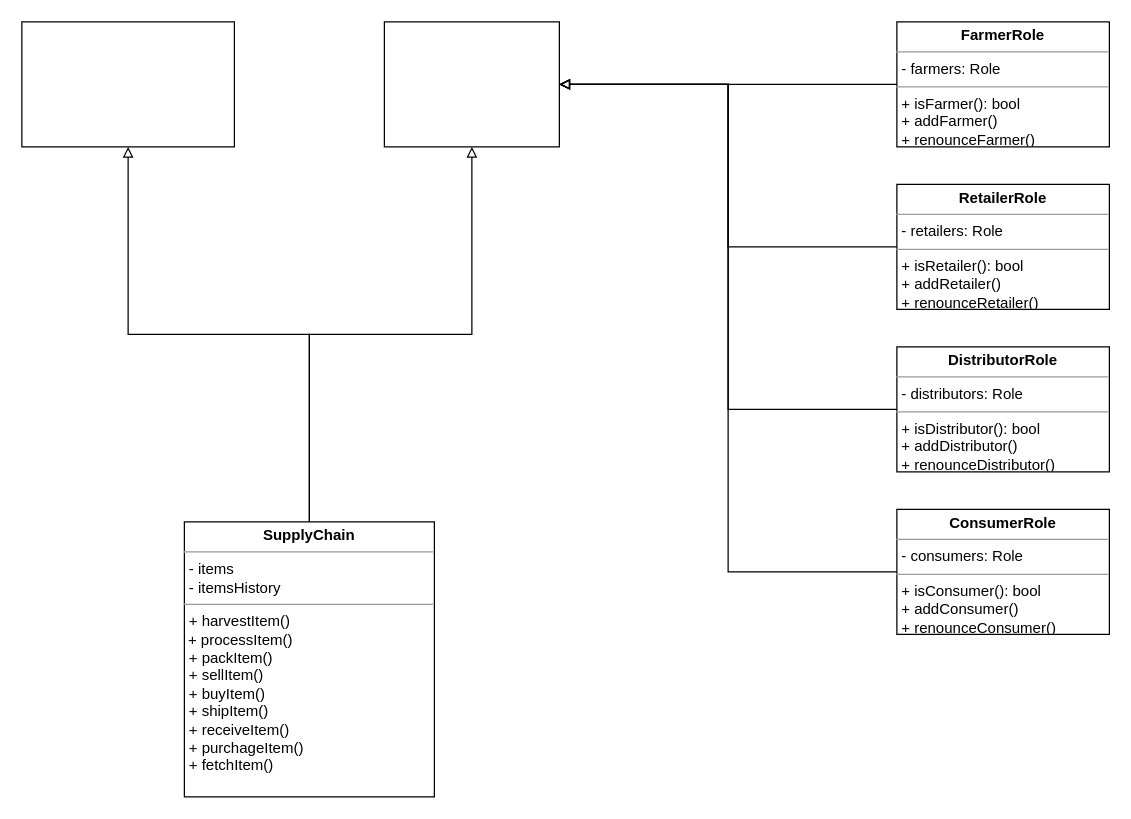
This 1131x819 diagram has some shape labels left out. Each missing label, with the centre of its shape:
Ownable + isOwner(): bool + transferOwnership() + renounceOwnership(): point (127, 84)
Role + add() + remove() + has(): point (471, 84)
